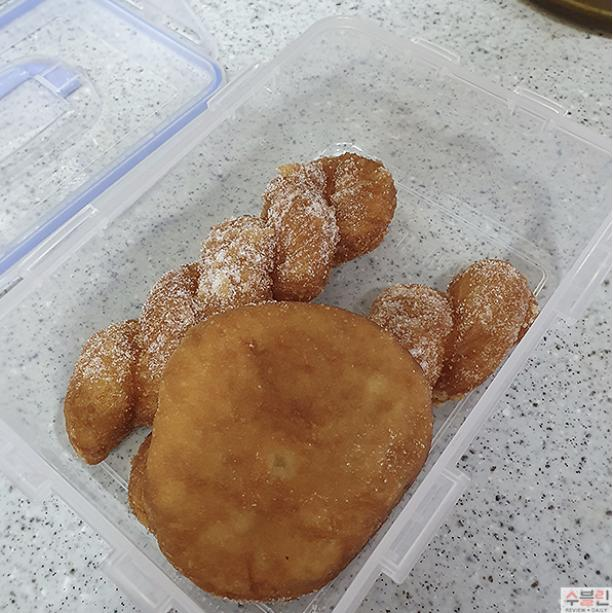Lunch Box: (0, 0, 611, 612)
